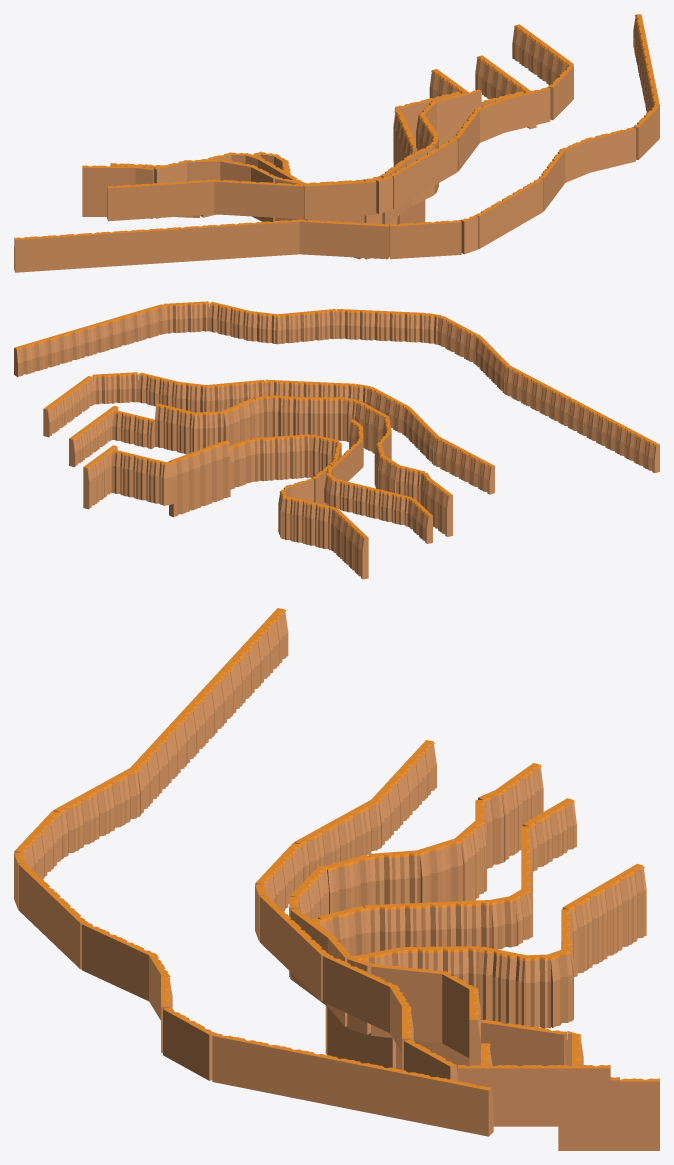
File: cliffs.fbx
3 renders of one model, top to bottom at view 1: azimuth 30°, elevation 25°; view 2: azimuth 150°, elevation 25°; view 3: azimuth 270°, elevation 25°, orthographic. The views are drawn at different scales.
Bounding box in the file's own units: 449 × 79.4 × 254.
